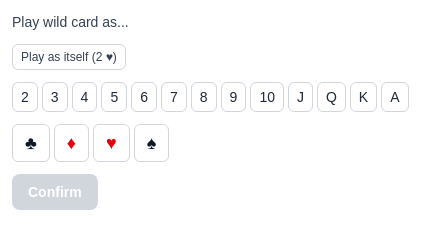
WildCardSelector › disables Confirm until both a rank and a suit are chosen
expect the button with test id "wild-card-confirm-button" is disabled: met, box [12,174,98,210]
Click the button with test id "wild-card-rank-option" showing "2" at (25, 97), box [12,82,38,112]
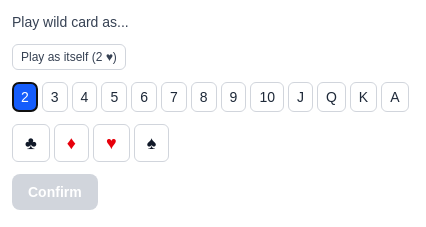
expect the button with test id "wild-card-confirm-button" is disabled: met, box [12,174,98,210]
Click the button with test id "wild-card-suit-option" showing "♣" at (31, 143), box [12,124,50,162]
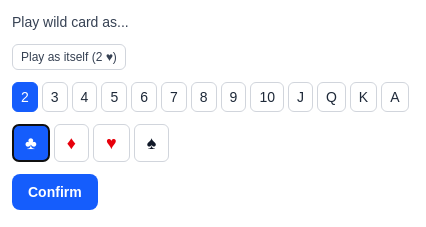
expect the button with test id "wild-card-confirm-button" is enabled: met, box [12,174,98,210]
